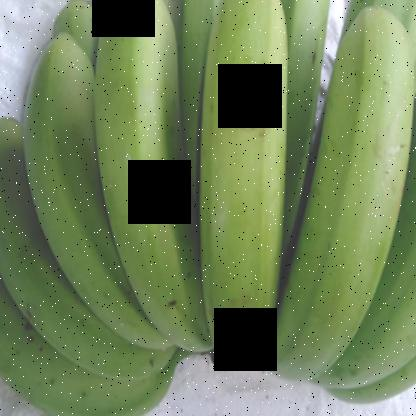freshunripe: (285, 2, 415, 368), (187, 0, 292, 378), (93, 0, 201, 342), (27, 26, 140, 308)
